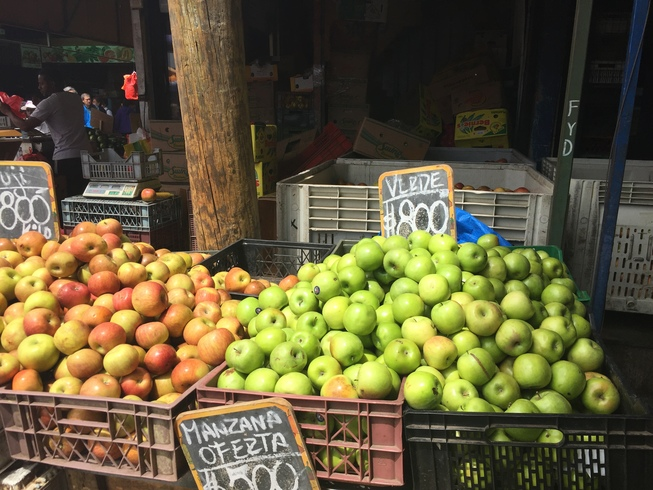precio: (162, 391, 328, 490), (372, 160, 463, 266), (1, 154, 67, 242)
